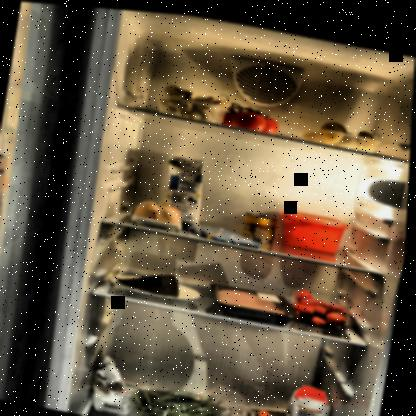butter: (276, 203, 353, 252)
carrot: (233, 398, 298, 415)
cheese: (118, 261, 189, 297)
chicken: (216, 281, 294, 318)
chocolate: (190, 217, 269, 244)
corn: (243, 206, 280, 239)
eggs: (132, 194, 184, 225)
green_beans: (129, 377, 233, 415)
milk: (159, 150, 207, 226)
mushrooms: (155, 78, 235, 122)
potato: (310, 111, 380, 147)
strawberries: (290, 280, 355, 327)
tomato: (221, 96, 285, 131)
